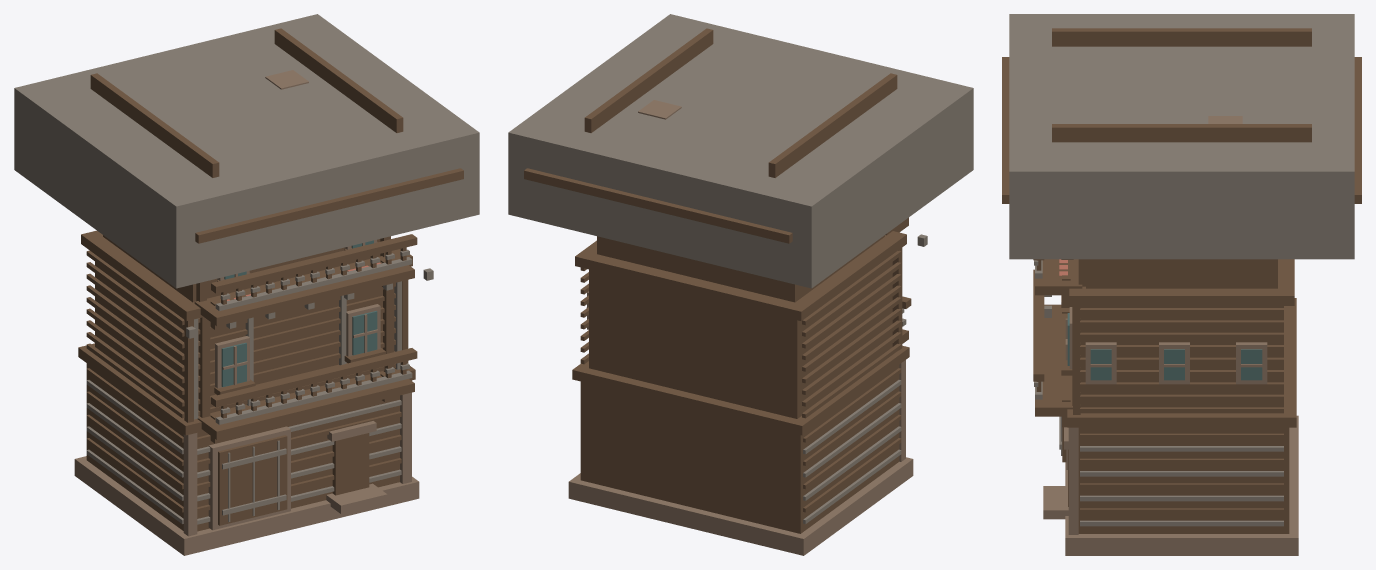
The model's file is sample-building.glb.
The picture shows the model from 3 angles, left to right: view 1: azimuth 30°, elevation 25°; view 2: azimuth 150°, elevation 25°; view 3: azimuth 270°, elevation 25°; orthographic projection. The views are drawn at different scales.
Parts seen in each view (by area): view 1: Broad overhanging larch-shingle roof, Side stacked-log course (×17), Dark log stable and storey, Dark timber living storey, Front stacked-log course (×11), Granite foundation course, Gable verge timber (×2), Stable double door, Upper carved balcony deck, Lower carved balcony deck, Carved front gable fascia, Second floor timber sill (+14 smaller); view 2: Broad overhanging larch-shingle roof, Dark log stable and storey, Dark timber living storey, Side stacked-log course (×17), Granite foundation course, Second floor timber sill, Gable verge timber (×2), First floor timber sill, Upper timber gable infill, Carved rear gable fascia, Stone corner quoin lower; view 3: Broad overhanging larch-shingle roof, Side stacked-log course (×17), Dark log stable and storey, Gable verge timber (×2), Dark timber living storey, Granite foundation course, Upper timber gable infill, First floor timber sill, Second floor timber sill, Lower carved balcony deck, Side window reveal (×3), Side window glass (×3) (+7 smaller).
Boxes of the visible parts, box(x1,y1,x2,y2) form: Broad overhanging larch-shingle roof: box(14, 14, 479, 288); Side stacked-log course (×17): box(86, 250, 184, 524); Dark log stable and storey: box(86, 363, 399, 531); Dark timber living storey: box(95, 261, 395, 411); Front stacked-log course (×11): box(197, 293, 401, 524); Granite foundation course: box(74, 456, 419, 555); Gable verge timber (×2): box(90, 28, 403, 177); Stable double door: box(218, 435, 287, 525); Upper carved balcony deck: box(194, 255, 414, 326); Lower carved balcony deck: box(197, 369, 414, 439); Carved front gable fascia: box(195, 168, 463, 243); Second floor timber sill: box(81, 230, 412, 321); Broad overhanging larch-shingle roof: box(508, 14, 973, 288); Dark log stable and storey: box(580, 365, 899, 533); Dark timber living storey: box(589, 262, 892, 418); Side stacked-log course (×17): box(802, 250, 901, 524); Granite foundation course: box(568, 457, 913, 555); Second floor timber sill: box(575, 231, 906, 321); Gable verge timber (×2): box(584, 28, 897, 177); First floor timber sill: box(572, 345, 909, 435); Upper timber gable infill: box(597, 235, 884, 302); Carved rear gable fascia: box(524, 168, 792, 243); Stone corner quoin lower: box(899, 360, 905, 461); Broad overhanging larch-shingle roof: box(1009, 14, 1354, 259); Side stacked-log course (×17): box(1080, 308, 1283, 526); Dark log stable and storey: box(1078, 427, 1289, 533); Gable verge timber (×2): box(1052, 28, 1311, 142); Dark timber living storey: box(1080, 306, 1283, 407); Granite foundation course: box(1065, 415, 1298, 555); Upper timber gable infill: box(1086, 259, 1277, 288); First floor timber sill: box(1067, 298, 1296, 427); Second floor timber sill: box(1069, 259, 1294, 305); Lower carved balcony deck: box(1035, 304, 1072, 416); Side window reveal (×3): box(1085, 342, 1267, 384); Side window glass (×3): box(1090, 349, 1262, 380).
Bounding box in the file's own units: 6 × 7.39 × 5.78.
